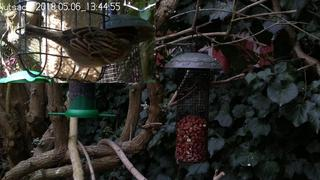sparrow: (24, 24, 132, 74)
